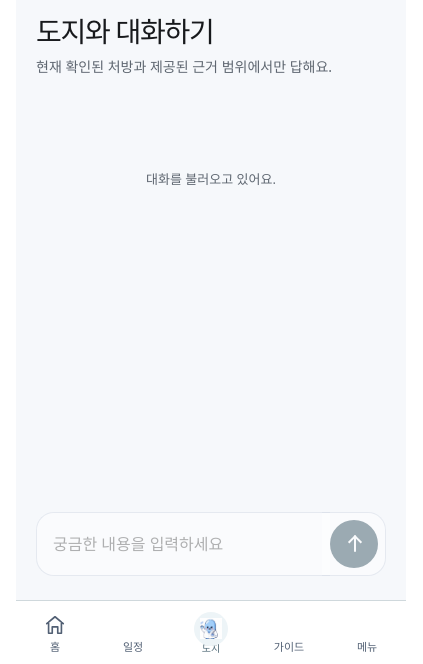
ChatPage › 사용자 질문을 즉시 표시하고 응답 완료 후 canonical 메시지로 reconcile한다
(page scrolled)
Type "중복 전송 확인" into the text box named "복약 질문" at (183, 544), box top-left (36, 512), bottom-right (330, 576)
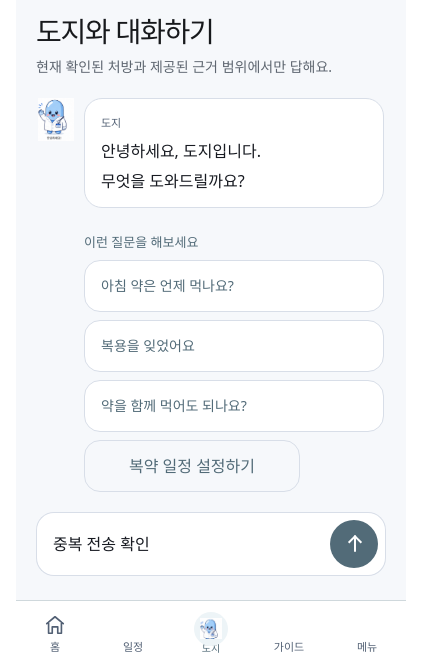
Click the button named "질문 전송" at (354, 544), box top-left (322, 512), bottom-right (386, 576)
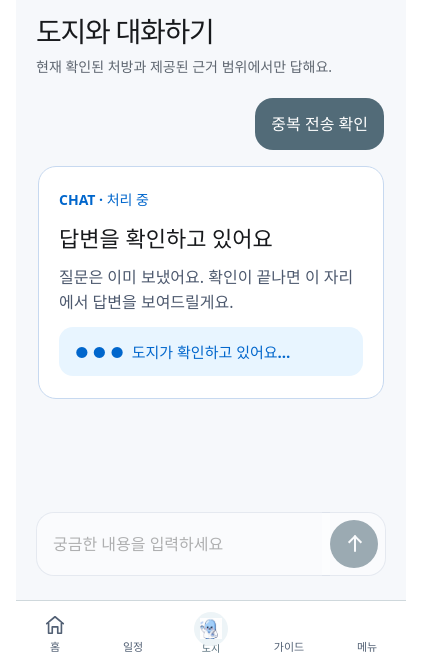
Expected: the text "중복 전송 확인" is shown once, top-left (255, 98), bottom-right (384, 150)
Expected: the heading "답변을 확인하고 있어요" is shown, top-left (59, 223), bottom-right (273, 253)
Expected: the text box named "복약 질문" is empty, top-left (36, 512), bottom-right (330, 576)
Click the button named "질문 전송" at (354, 544), box top-left (322, 512), bottom-right (386, 576)
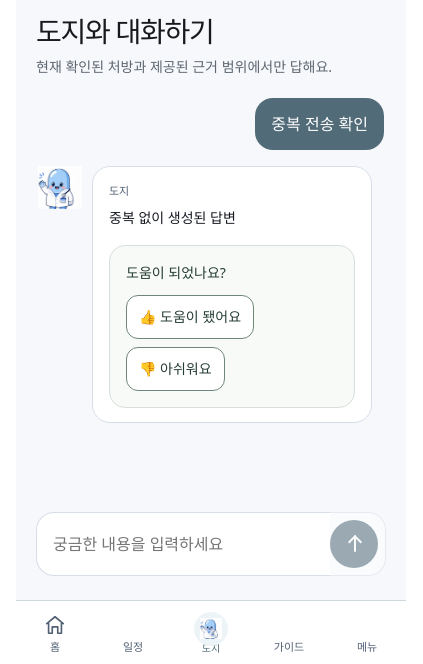
Expected: the text "중복 없이 생성된 답변" is shown, top-left (109, 208), bottom-right (236, 227)
Expected: the text "중복 전송 확인" is shown once, top-left (255, 98), bottom-right (384, 150)
Expected: the heading "답변을 확인하고 있어요" is gone
